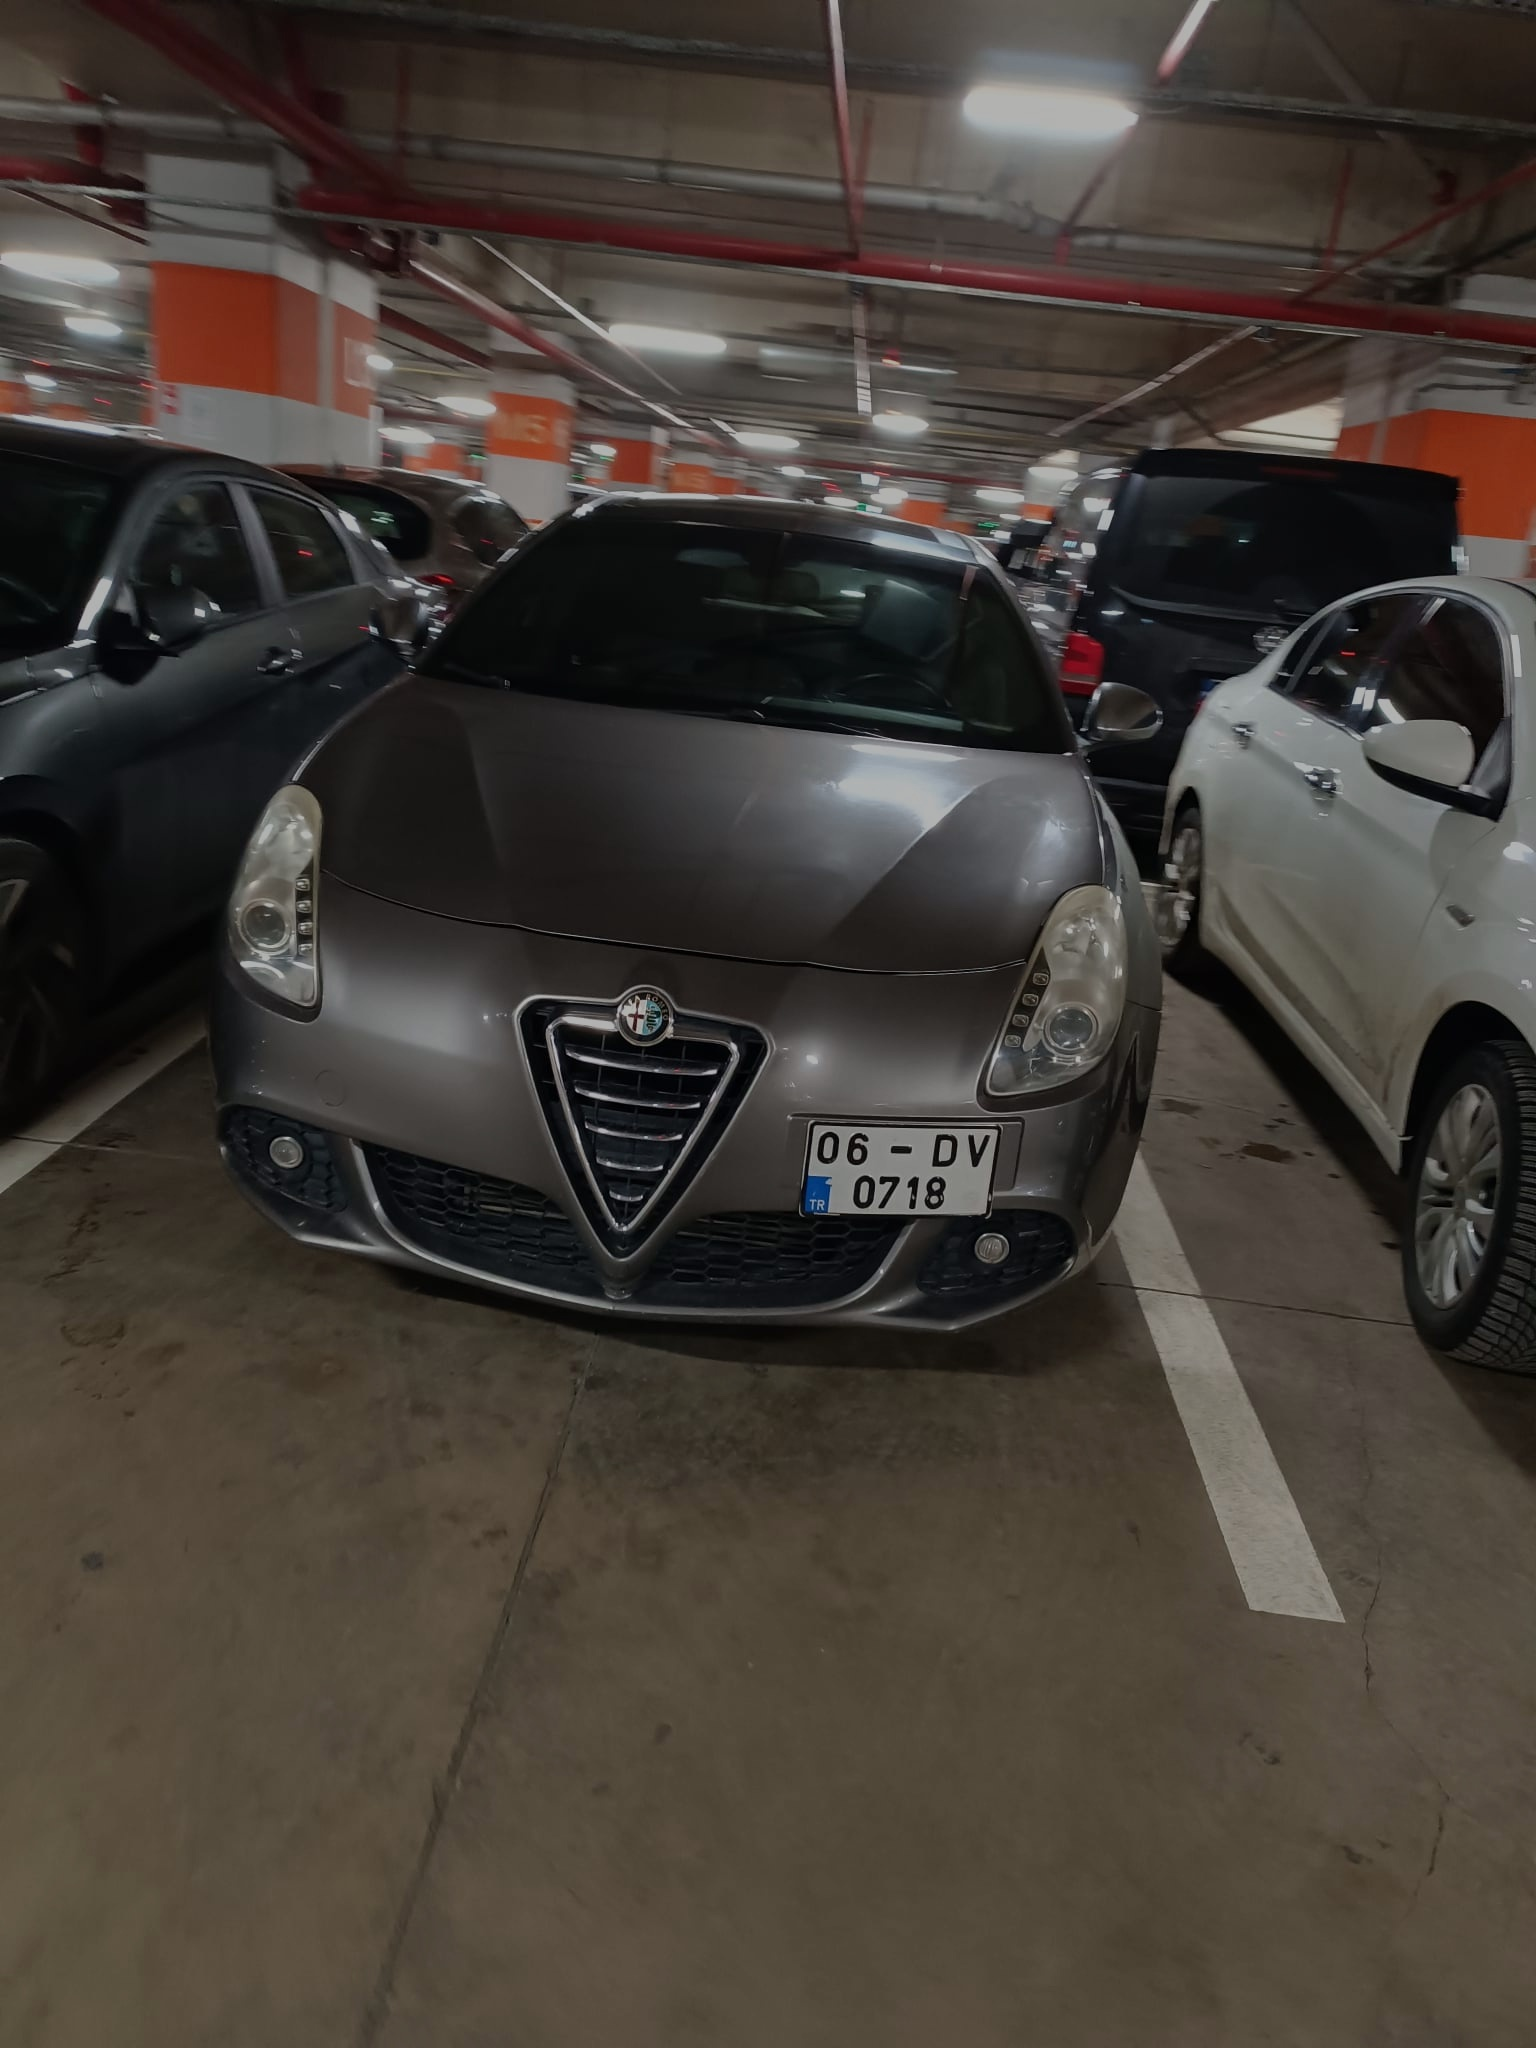plaka: (789, 1113, 999, 1231)
